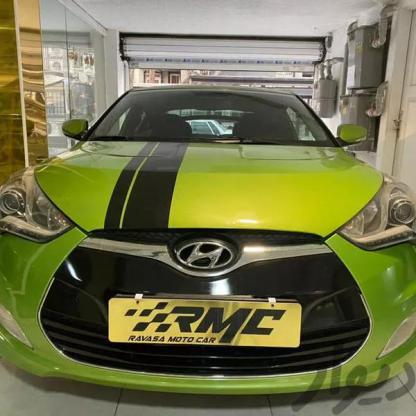Car: (0, 67, 416, 397)
